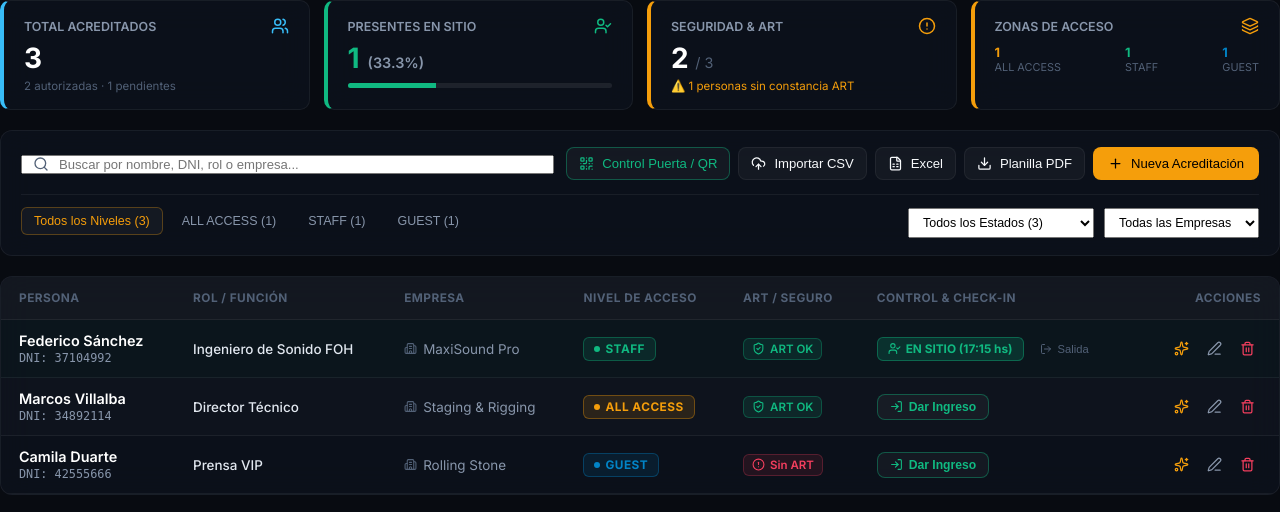
Accreditations Module Suite › permite filtrar por nivel de acceso al hacer clic en una píldora
Expected: the text "Federico Sánchez" is shown, x1=19 y1=332 x2=159 y2=349
Expected: the text "Marcos Villalba" is shown, x1=19 y1=390 x2=126 y2=407
// Clic en la píldora ALL ACCESS
Click the button "ALL ACCESS (1)": [229, 221] box x1=169 y1=207 x2=289 y2=235
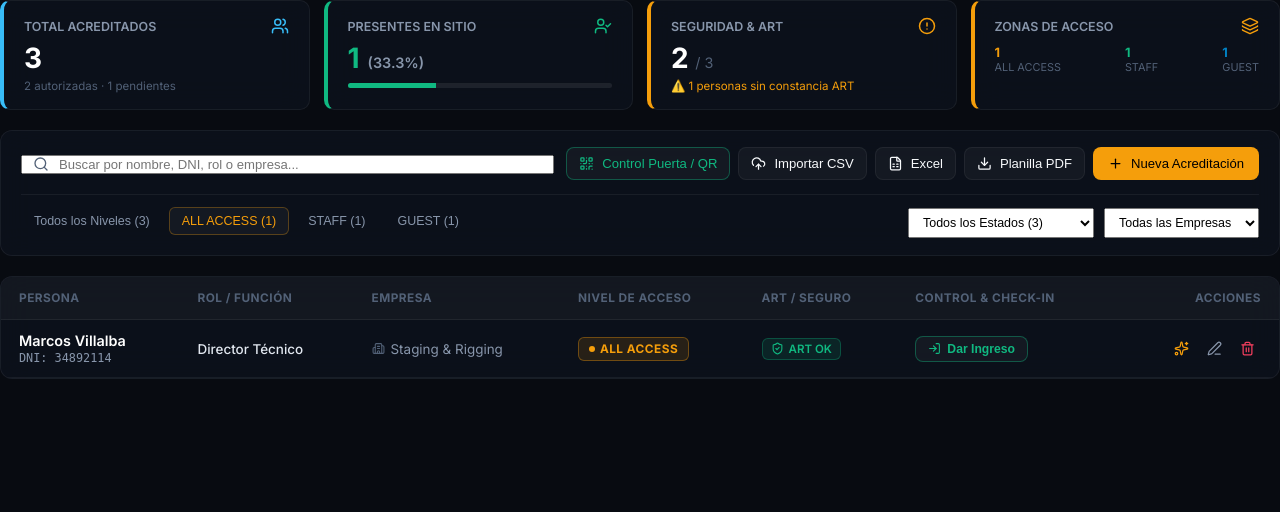
Expected: the text "Marcos Villalba" is shown, x1=19 y1=332 x2=126 y2=349
Result: the text "Federico Sánchez" is gone
Result: the text "Camila Duarte" is gone
